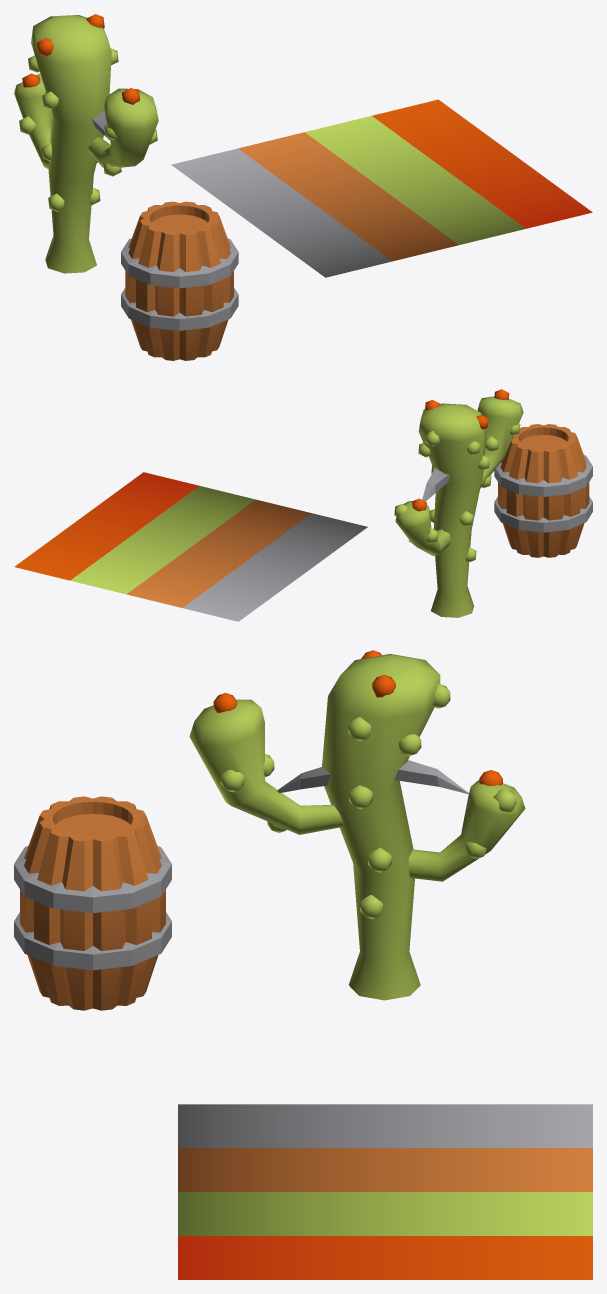
The model's file is learn_blender.glb.
3 renders of one model, top to bottom at view 1: azimuth 30°, elevation 25°; view 2: azimuth 150°, elevation 25°; view 3: azimuth 270°, elevation 25°, orthographic. The views are drawn at different scales.
Visible parts, largest first — view 1: 平面, 棱角球.020, 圆环.001; view 2: 平面, 棱角球.020, 圆环.001, 圆环; view 3: 平面, 棱角球.020, 圆环.001, 圆环.
Boxes of the visible parts, x1,y1,x2,y2 form: 平面: (171,99,592,277); 棱角球.020: (14,14,158,273); 圆环.001: (121,201,238,360); 平面: (14,472,367,621); 棱角球.020: (394,389,523,617); 圆环.001: (494,424,592,557); 圆环: (422,468,449,501); 平面: (178,1104,592,1279); 棱角球.020: (189,650,525,1000); 圆环.001: (14,796,171,1010); 圆环: (277,760,469,794).
Size of the model in its own units: 55.03 by 25.99 by 41.42.
1 material, 1 textured.
